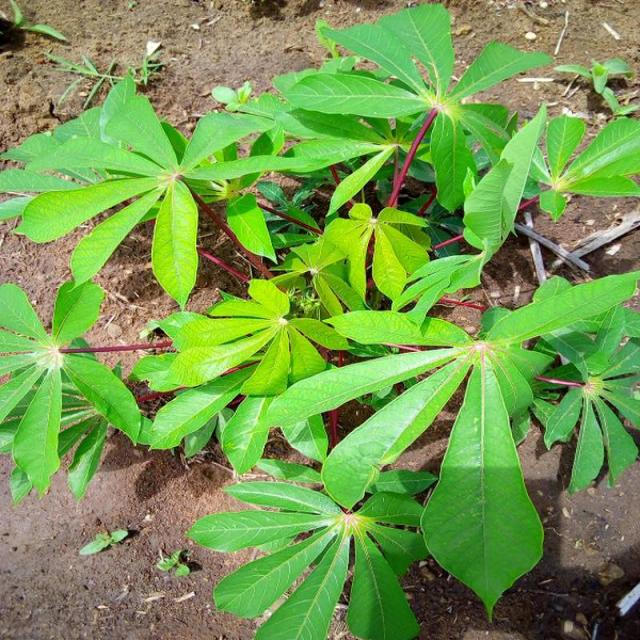cassava leaf: (1, 2, 638, 636), (418, 349, 545, 622)
